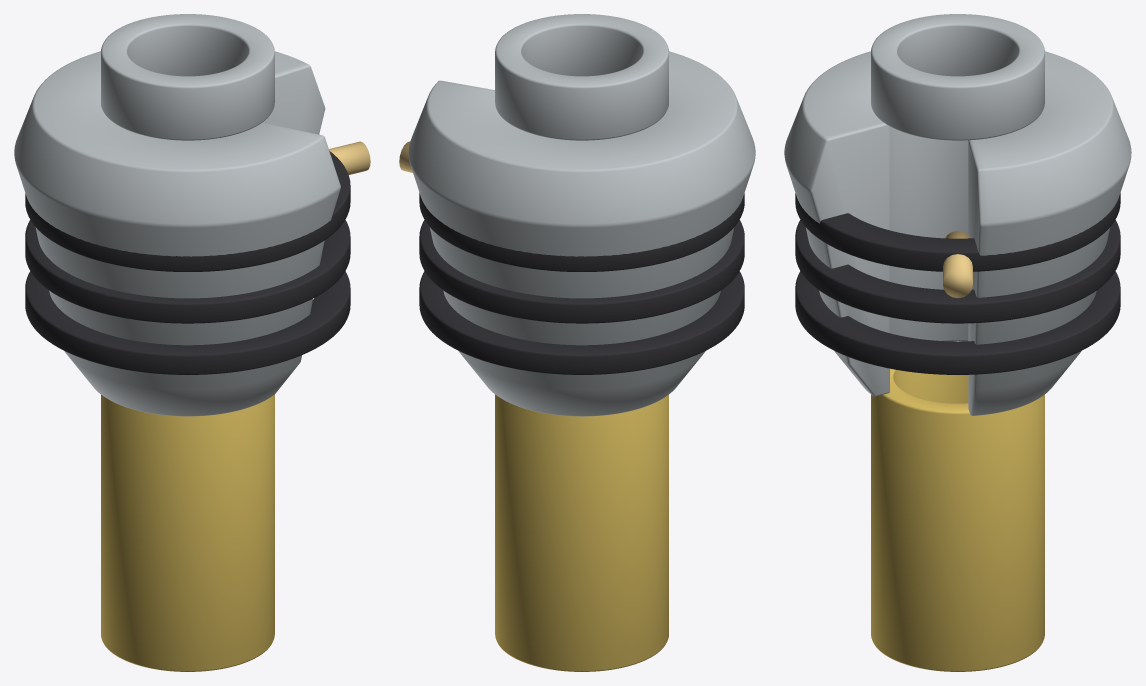
Rendered from tubing-hanger.glb.
The picture shows the model from 3 angles, left to right: view 1: azimuth 30°, elevation 25°; view 2: azimuth 150°, elevation 25°; view 3: azimuth 270°, elevation 25°; orthographic projection.
Visible parts, largest first — view 1: Mandrel hanger, Tubing pup, Lift thread neck, Seal ring 2, Seal ring 1, Seal ring 0, Control line port; view 2: Mandrel hanger, Tubing pup, Lift thread neck, Seal ring 2, Seal ring 1, Seal ring 0; view 3: Mandrel hanger, Tubing pup, Lift thread neck, Seal ring 2, Seal ring 1, Seal ring 0, Control line port.
Boxes of the visible parts, left/top/right/bottom form: Mandrel hanger: left=14, top=51, right=340, bottom=416; Tubing pup: left=101, top=394, right=274, bottom=671; Lift thread neck: left=101, top=14, right=274, bottom=140; Seal ring 2: left=25, top=271, right=350, bottom=374; Seal ring 1: left=25, top=220, right=350, bottom=323; Seal ring 0: left=25, top=151, right=350, bottom=271; Control line port: left=329, top=141, right=370, bottom=174; Mandrel hanger: left=408, top=51, right=755, bottom=416; Tubing pup: left=495, top=394, right=668, bottom=671; Lift thread neck: left=495, top=14, right=668, bottom=140; Seal ring 2: left=419, top=271, right=744, bottom=374; Seal ring 1: left=419, top=220, right=744, bottom=323; Seal ring 0: left=419, top=193, right=744, bottom=271; Mandrel hanger: left=784, top=51, right=1131, bottom=415; Tubing pup: left=871, top=341, right=1044, bottom=671; Lift thread neck: left=871, top=14, right=1044, bottom=140; Seal ring 2: left=795, top=271, right=1120, bottom=374; Seal ring 1: left=795, top=220, right=1120, bottom=323; Seal ring 0: left=795, top=193, right=1120, bottom=271; Control line port: left=943, top=231, right=972, bottom=297.
Size of the model in its own units: 1.99 by 3.42 by 1.84.
